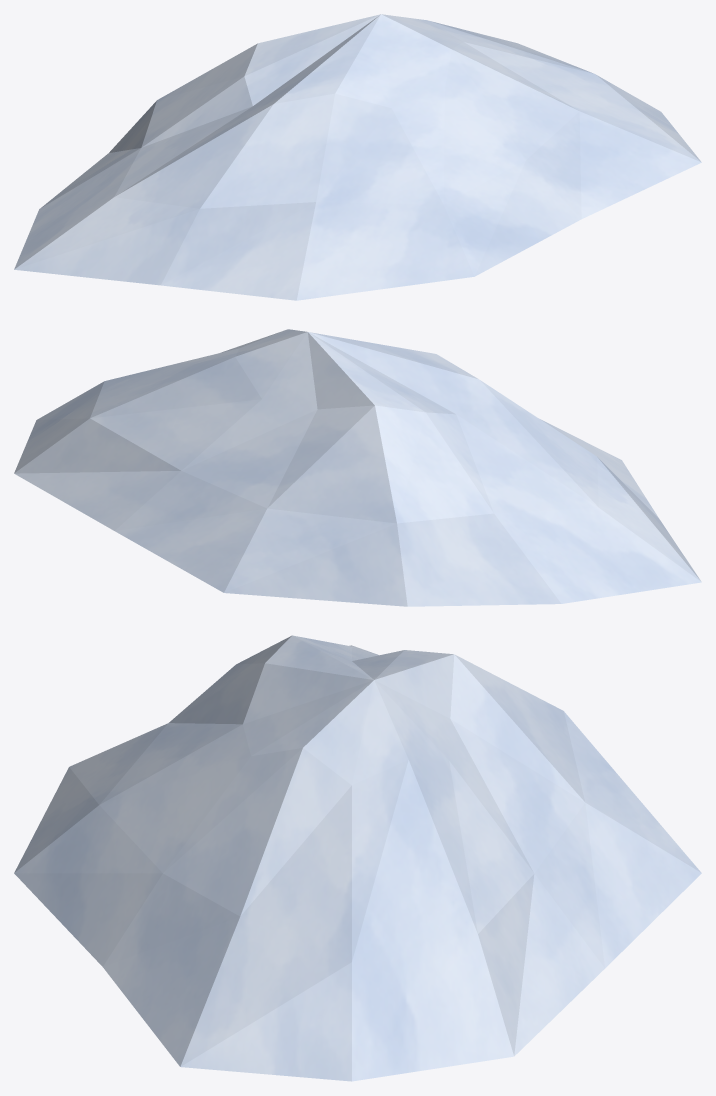
The model's file is drift_small.glb.
3 renders of one model, top to bottom at view 1: azimuth 30°, elevation 25°; view 2: azimuth 150°, elevation 25°; view 3: azimuth 270°, elevation 25°, orthographic. The views are drawn at different scales.
Parts seen in each view (by area): view 1: winter_drift_small; view 2: winter_drift_small; view 3: winter_drift_small.
Boxes of the visible parts, x1=… form: winter_drift_small: x1=14, y1=14, x2=701, y2=300; winter_drift_small: x1=14, y1=329, x2=701, y2=606; winter_drift_small: x1=14, y1=635, x2=701, y2=1081.
Size of the model in its own units: 1.2 by 0.28 by 0.8.
1 material, 1 textured.
